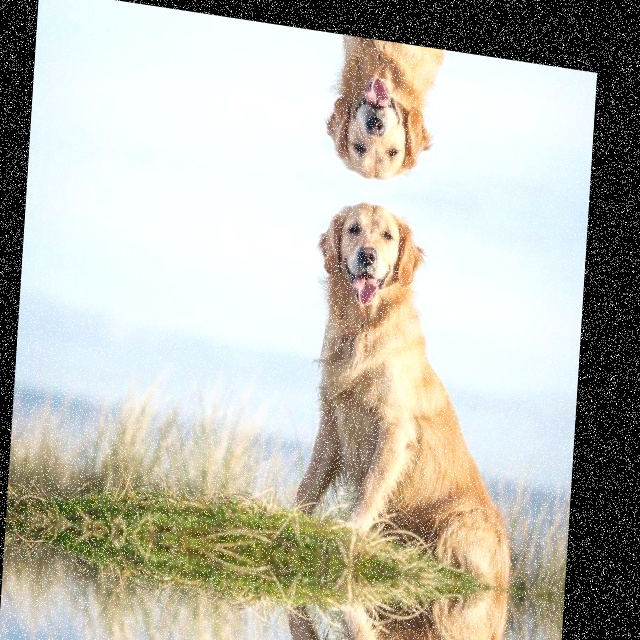dog: (292, 188, 523, 590), (316, 32, 533, 207), (283, 557, 500, 640)
